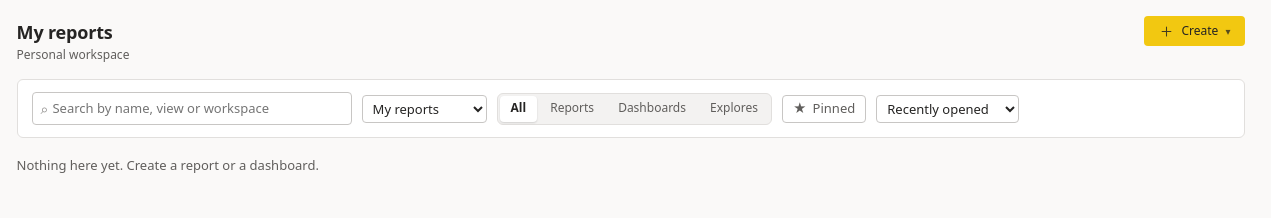
Scenario: WorkspacePage › shows an alert with the backend's message when creating a report fails
Check: the text "Nothing here yet. Create a report or a dashboard." is shown, box x1=17 y1=156 x2=319 y2=174
Click the button "Create ▾" at {"x": 1195, "y": 31}, box x1=1144 y1=16 x2=1245 y2=46
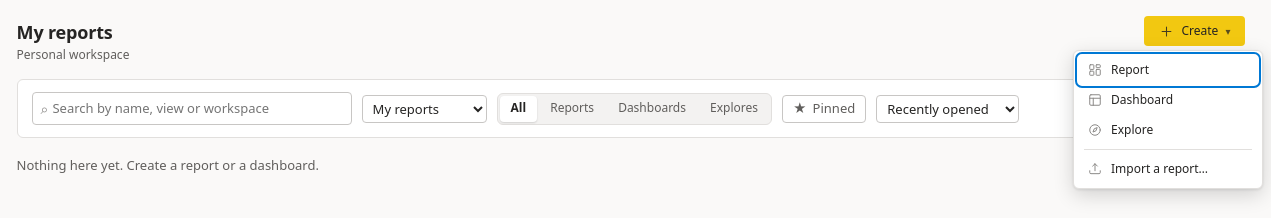
Click the menu item "Report" at {"x": 1168, "y": 70}, box x1=1078 y1=55 x2=1258 y2=85
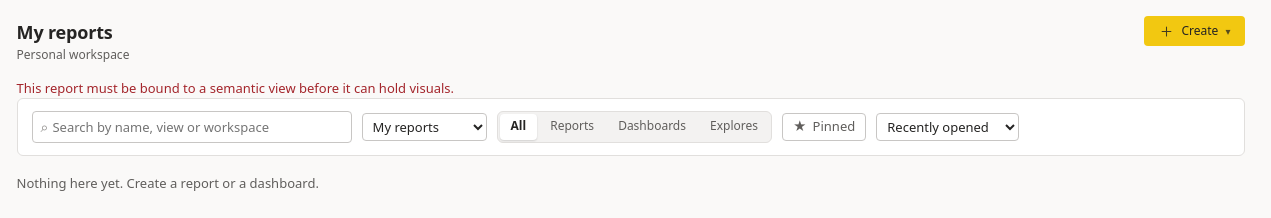
Check: the message shows "This report must be bound to a semantic view before it can hold visuals", box x1=17 y1=80 x2=454 y2=98
